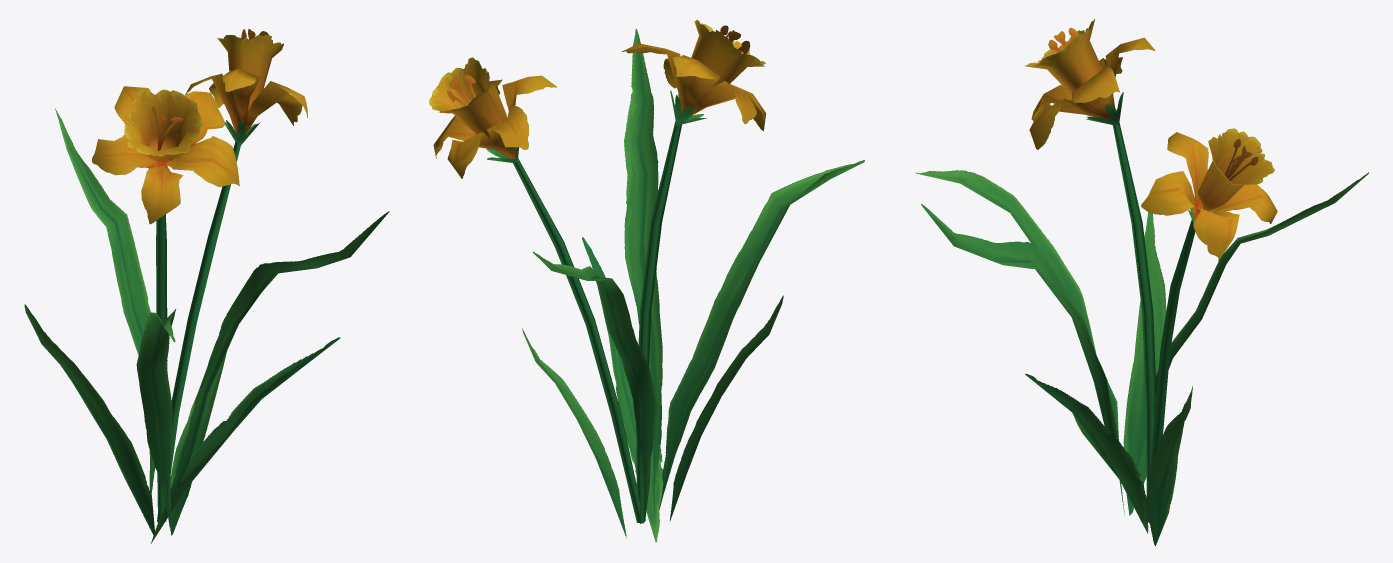
The model's file is MSH_FWOF_Flower_Large_A_04.fbx.
3 renders of one model, left to right at view 1: azimuth 30°, elevation 25°; view 2: azimuth 150°, elevation 25°; view 3: azimuth 270°, elevation 25°, orthographic. The views are drawn at different scales.
Visible parts, largest first — view 1: MSH_FWOF_Flower_Large_A_04; view 2: MSH_FWOF_Flower_Large_A_04; view 3: MSH_FWOF_Flower_Large_A_04.
Part boxes in pixels (<box>): MSH_FWOF_Flower_Large_A_04: <box>24,29,389,543</box>; MSH_FWOF_Flower_Large_A_04: <box>429,20,864,542</box>; MSH_FWOF_Flower_Large_A_04: <box>915,19,1368,545</box>.
Bounding box in the file's own units: 0.4414 × 0.6641 × 0.5636.
